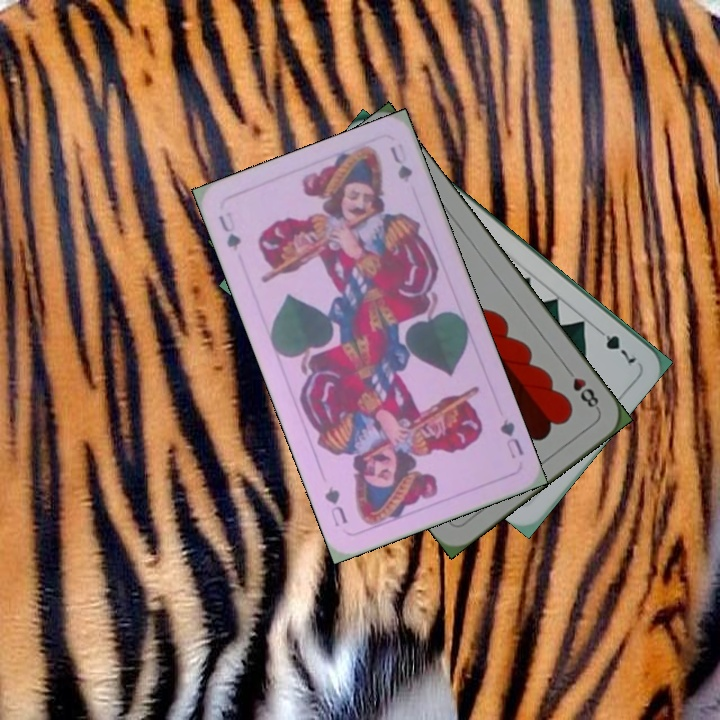G7: (590, 322, 639, 366)
GU: (496, 415, 526, 462), (214, 207, 244, 254)
H8: (561, 363, 602, 413)
